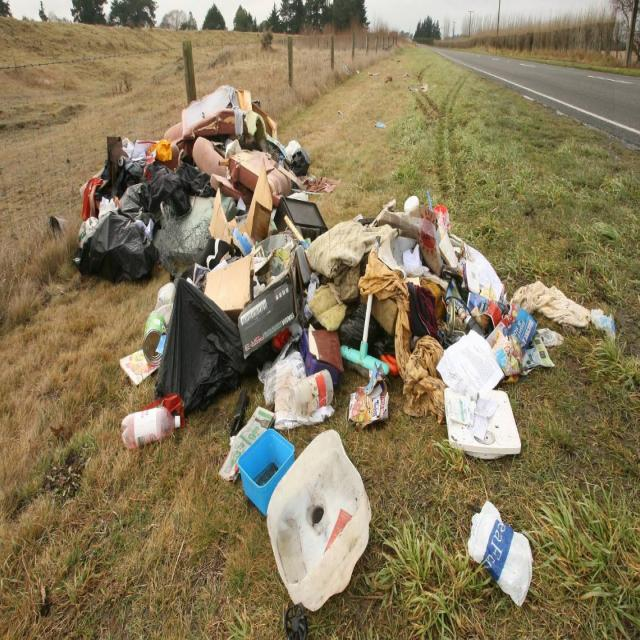dumping: (67, 74, 615, 604)
